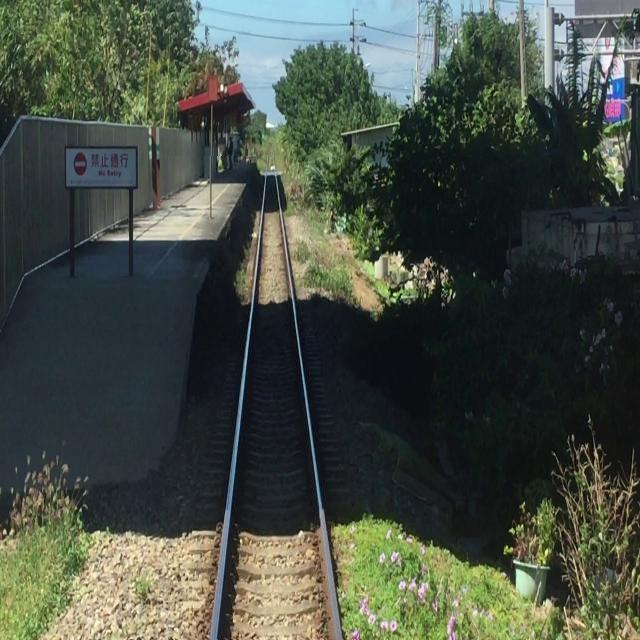rail: (170, 158, 372, 640)
